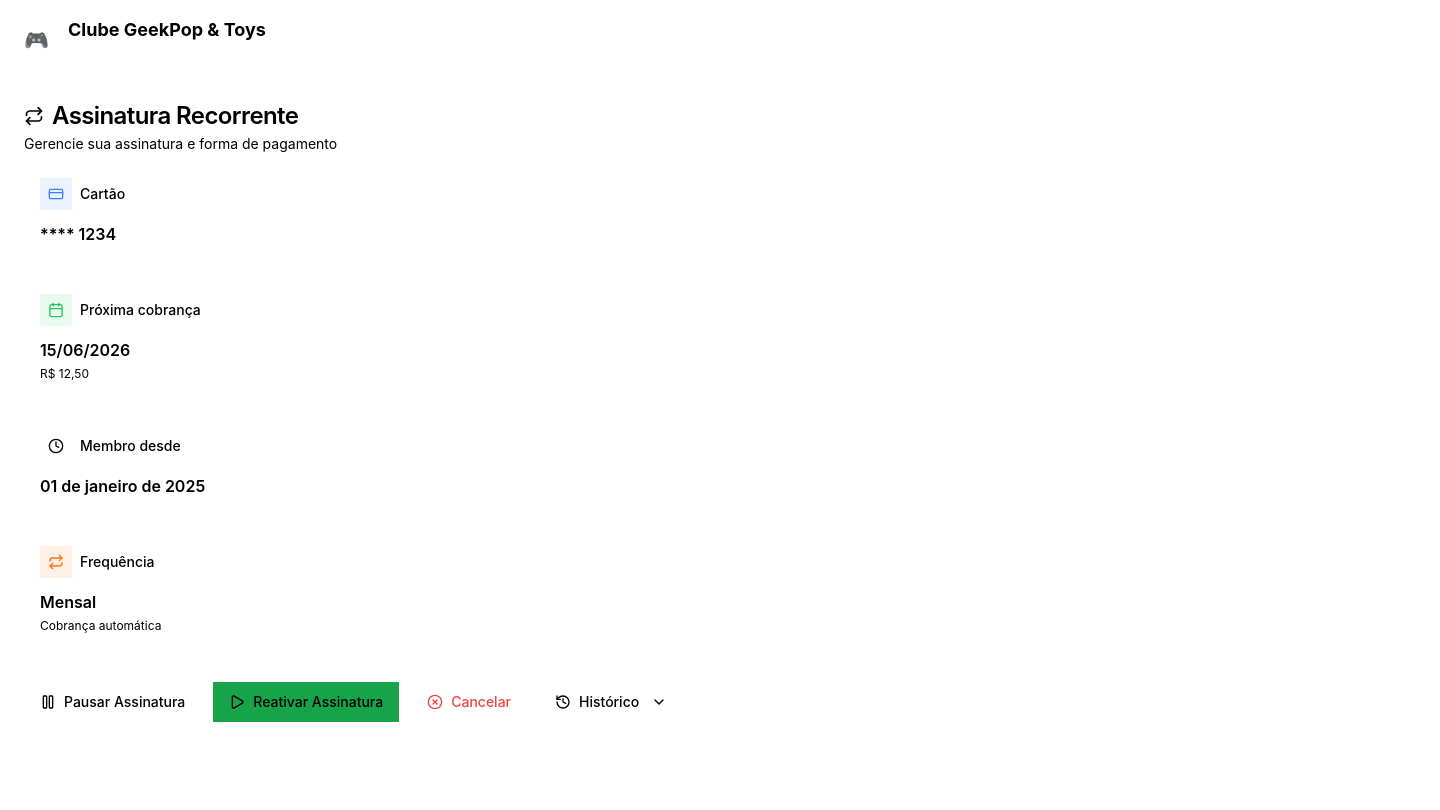
Test case: SubscriptionManagement › should close dialog when Voltar is clicked
The width and height of the screenshot is (1440, 810).
Click the button "Pausar Assinatura" at point(113, 702), box [24, 682, 201, 722]
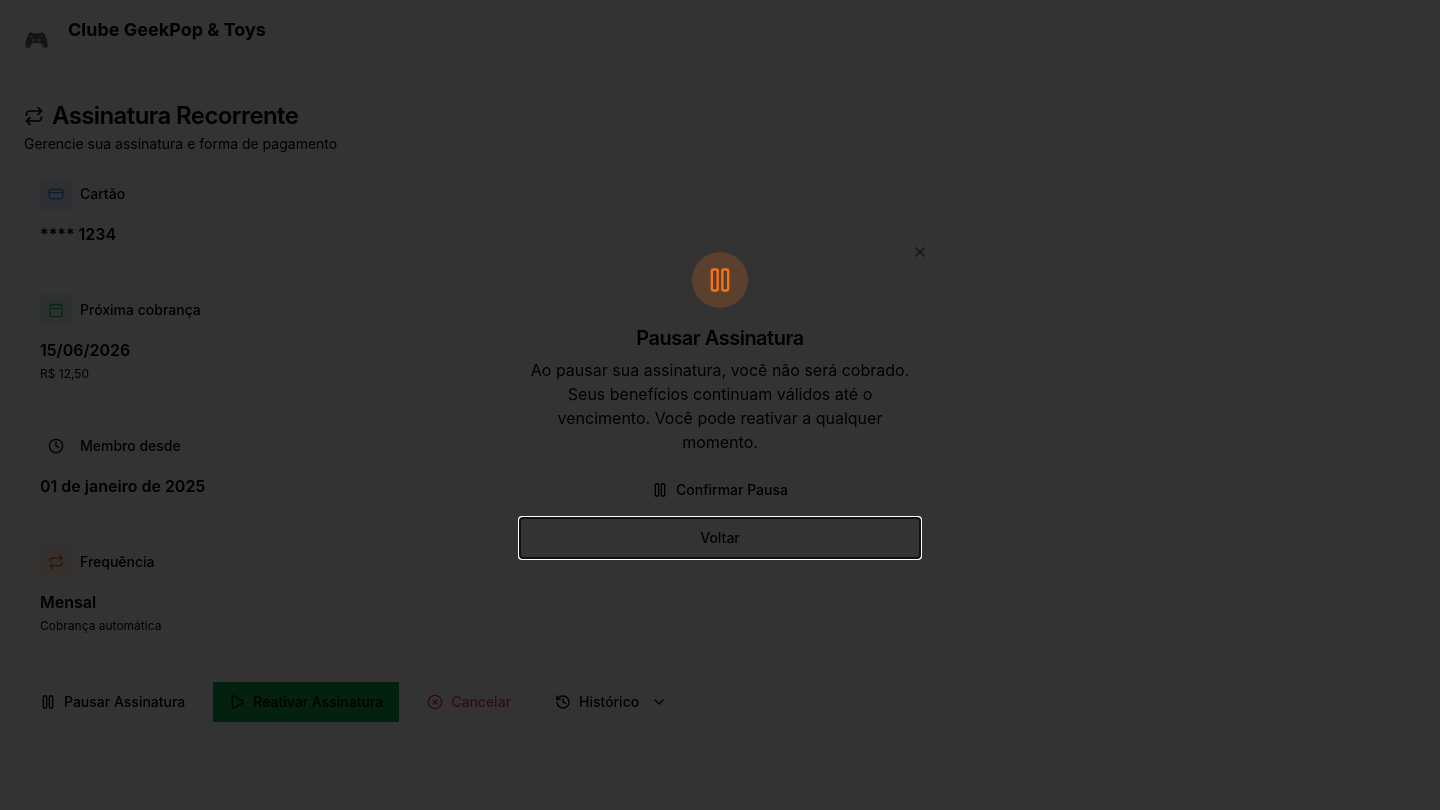
Result: the button "Confirmar Pausa" is shown at [520, 470, 920, 510]
Click the button "Voltar" at point(720, 538), box [520, 518, 920, 558]
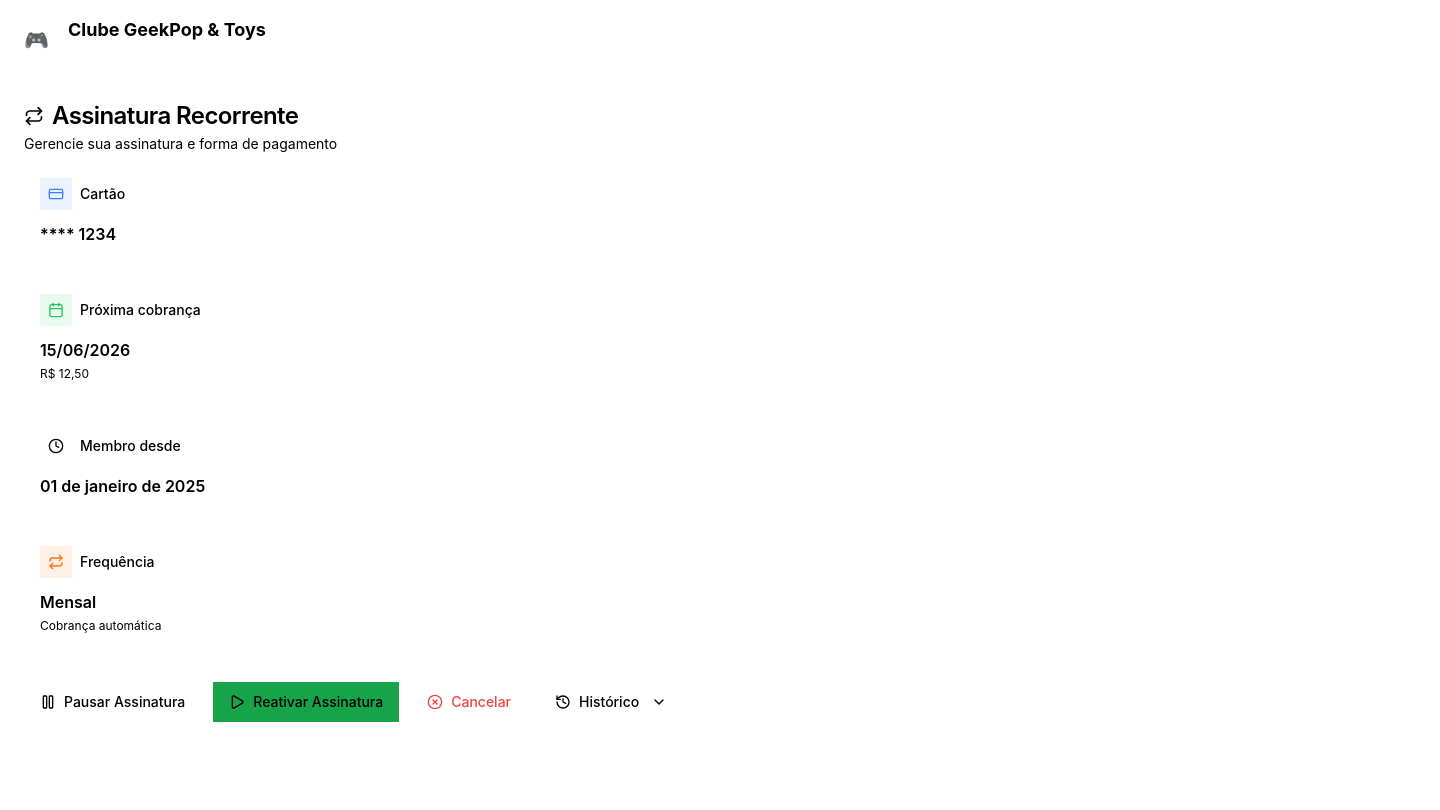
Result: the button "Confirmar Pausa" is gone
